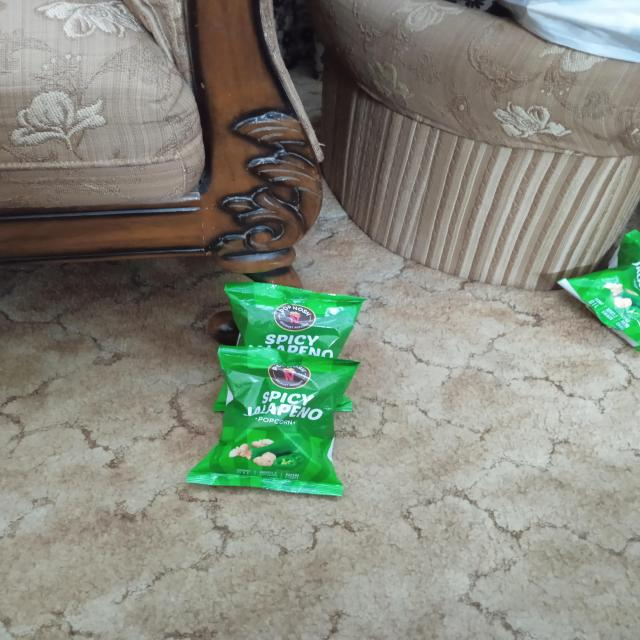Plastic: (195, 356, 351, 490), (230, 280, 359, 354)
